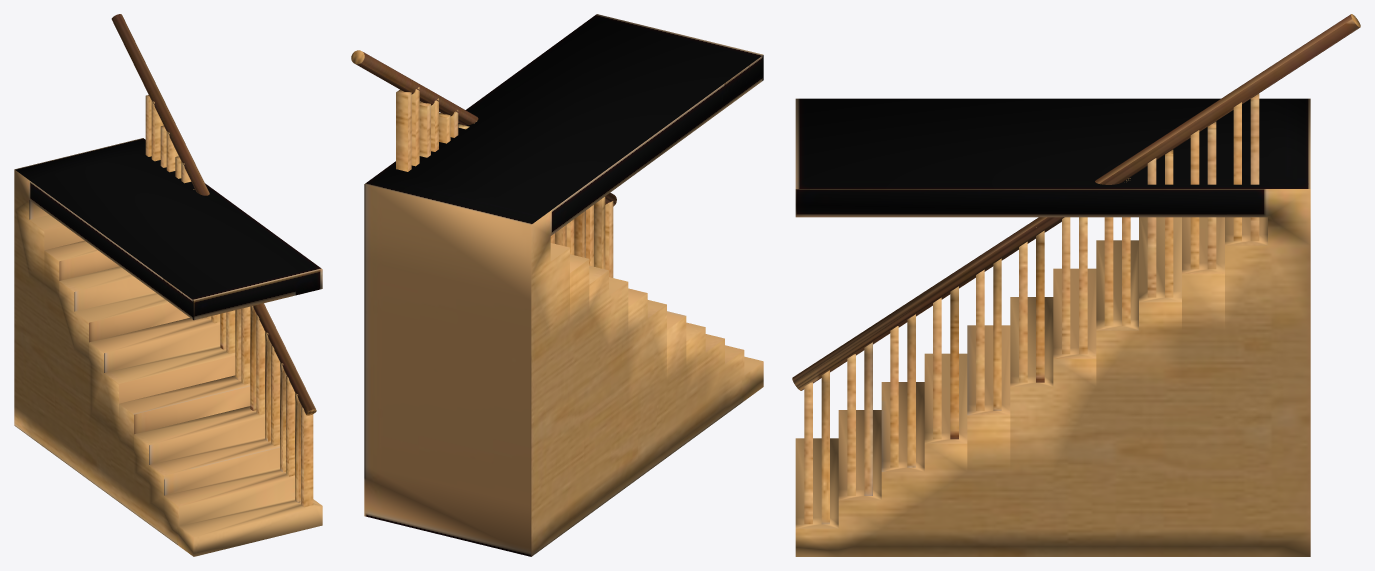
Rendered from stairs_2.obj.
3 renders of one model, left to right at view 1: azimuth 30°, elevation 25°; view 2: azimuth 150°, elevation 25°; view 3: azimuth 270°, elevation 25°, orthographic. The views are drawn at different scales.
Parts seen in each view (by area): view 1: cube7; view 2: cube7; view 3: cube7.
Part boxes in pixels (x1,y1,x2,y2): cube7: (14,14,322,556); cube7: (351,14,763,556); cube7: (792,14,1360,556).
Bounding box in the file's own units: 10.97 × 30.3 × 29.21.
1 material, 1 textured.
